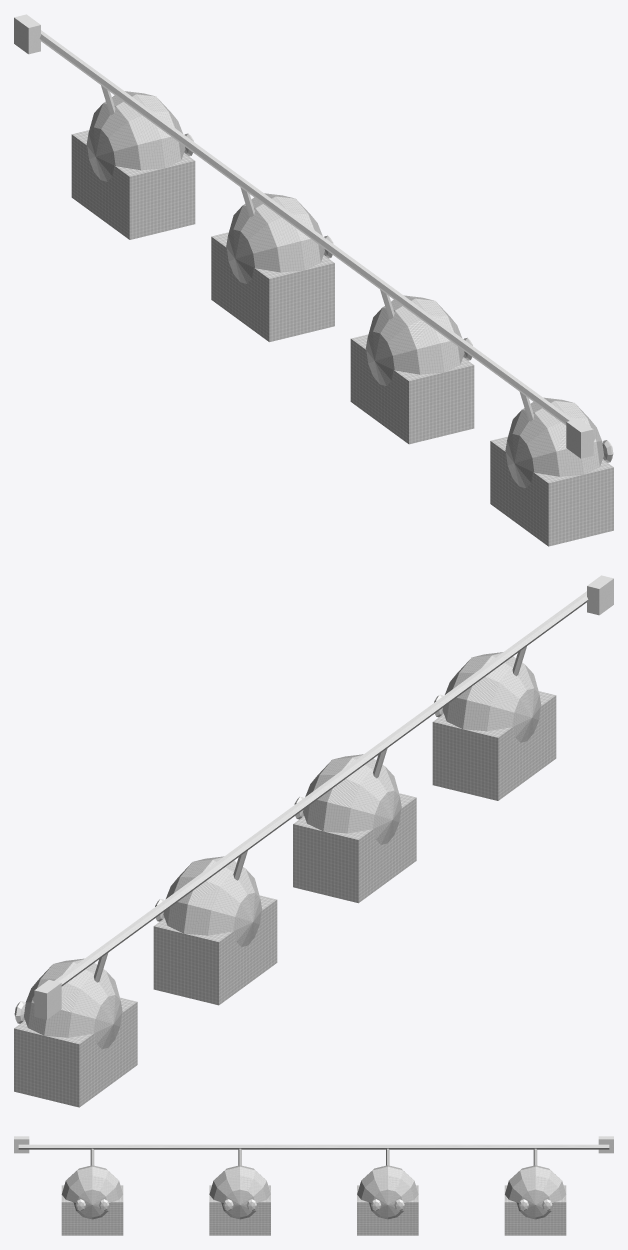
File: halloweenghoststring.obj
3 renders of one model, top to bottom at view 1: azimuth 30°, elevation 25°; view 2: azimuth 150°, elevation 25°; view 3: azimuth 270°, elevation 25°, orthographic. The views are drawn at different scales.
Visible parts, largest first — view 1: Shade, Metal, Base; view 2: Shade, Metal, Base; view 3: Shade, Metal, Base, Light1, Light2, Light0, Light3.
Boxes of the visible parts, x1,y1,x2,y2 form: Shade: [71, 91, 613, 546]; Metal: [39, 30, 595, 441]; Base: [14, 14, 593, 458]; Shade: [14, 652, 556, 1107]; Metal: [32, 591, 588, 1002]; Base: [34, 575, 613, 1019]; Shade: [61, 1165, 566, 1235]; Metal: [18, 1144, 609, 1165]; Base: [14, 1136, 613, 1153]; Light1: [371, 1199, 404, 1211]; Light2: [223, 1199, 256, 1211]; Light0: [518, 1199, 552, 1211]; Light3: [75, 1199, 109, 1211].
Bounding box in the file's own units: 0.185 × 0.285 × 1.95.
